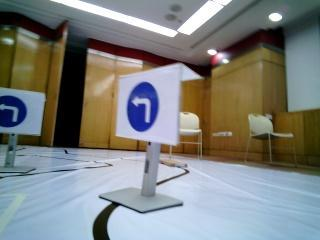left: (120, 79, 174, 137), (2, 89, 42, 135)
